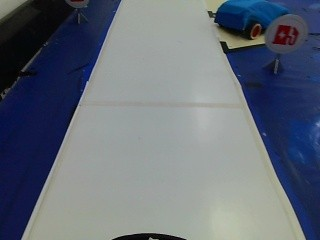battery: (264, 17, 302, 53)
car: (204, 0, 276, 35)
